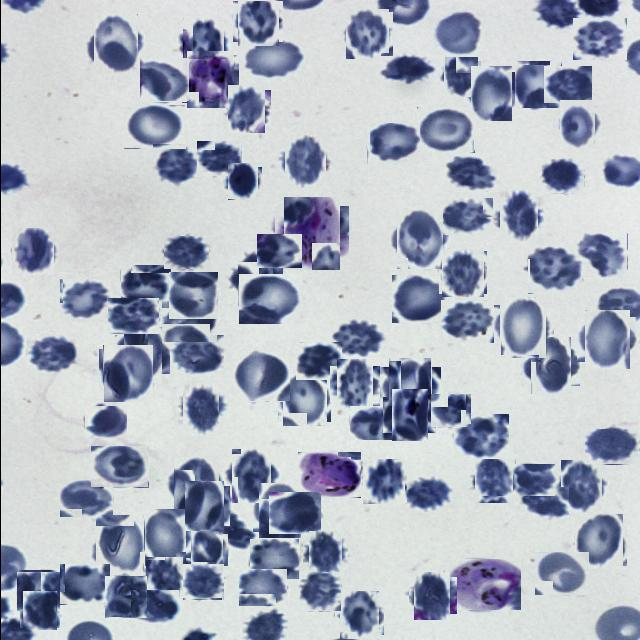difficult: (278, 202, 344, 266)
gametocyte: (297, 452, 361, 498)
red blood cell: (238, 274, 302, 324), (100, 346, 154, 401), (232, 351, 290, 402), (494, 300, 548, 354), (393, 213, 446, 266), (88, 18, 141, 70), (92, 518, 145, 570), (580, 313, 632, 366), (170, 459, 222, 512), (383, 362, 436, 414), (526, 245, 582, 294), (123, 105, 185, 149), (572, 516, 624, 568), (242, 37, 306, 79), (416, 107, 474, 153), (391, 275, 446, 323), (140, 512, 190, 562), (453, 414, 508, 459), (90, 446, 148, 488), (534, 552, 589, 596), (255, 486, 304, 535), (526, 342, 574, 391), (161, 301, 217, 343), (432, 10, 484, 55), (557, 463, 605, 511), (179, 21, 227, 69), (280, 137, 328, 185), (280, 376, 328, 424), (466, 69, 514, 117), (168, 272, 217, 319), (59, 279, 111, 323), (440, 300, 493, 343), (572, 18, 626, 60), (366, 122, 420, 164), (118, 331, 166, 378), (344, 10, 391, 58), (514, 61, 561, 108), (579, 233, 627, 279), (139, 58, 189, 102), (268, 492, 320, 534), (228, 452, 274, 499), (169, 335, 223, 375), (119, 265, 170, 307), (178, 386, 224, 432), (59, 564, 110, 605), (59, 480, 113, 518), (249, 539, 299, 580), (235, 0, 280, 45), (9, 230, 55, 274), (26, 332, 76, 372), (439, 198, 493, 235), (232, 256, 277, 300), (440, 250, 484, 295), (472, 456, 517, 500), (336, 594, 381, 638), (584, 429, 639, 465), (386, 393, 431, 437), (330, 319, 381, 357), (496, 194, 540, 238), (332, 362, 376, 406), (361, 460, 405, 504), (182, 484, 226, 528), (152, 144, 198, 186), (445, 156, 498, 192), (543, 66, 592, 104), (238, 568, 287, 606), (107, 298, 158, 334), (404, 476, 453, 513), (410, 574, 452, 617), (225, 88, 268, 130), (556, 103, 598, 145), (16, 570, 58, 612), (104, 576, 146, 618), (295, 342, 341, 380), (380, 53, 436, 84), (299, 572, 341, 612), (349, 406, 398, 440), (196, 141, 242, 177), (304, 533, 344, 573), (130, 590, 178, 623), (144, 557, 183, 597), (182, 564, 224, 601), (520, 487, 568, 519), (256, 234, 301, 268), (541, 159, 584, 194), (163, 236, 208, 269), (20, 592, 58, 630), (187, 531, 224, 569), (441, 58, 478, 96), (430, 394, 471, 428), (512, 464, 554, 496), (84, 406, 126, 438), (224, 165, 258, 199)
trophozoite: (444, 559, 520, 610), (183, 52, 236, 106)
